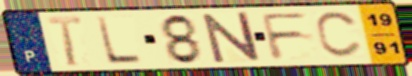8: (157, 11, 204, 67)
C: (313, 10, 365, 61)
F: (258, 10, 312, 62)
L: (94, 15, 145, 65)
N: (200, 10, 264, 65)
T: (44, 15, 85, 68)
